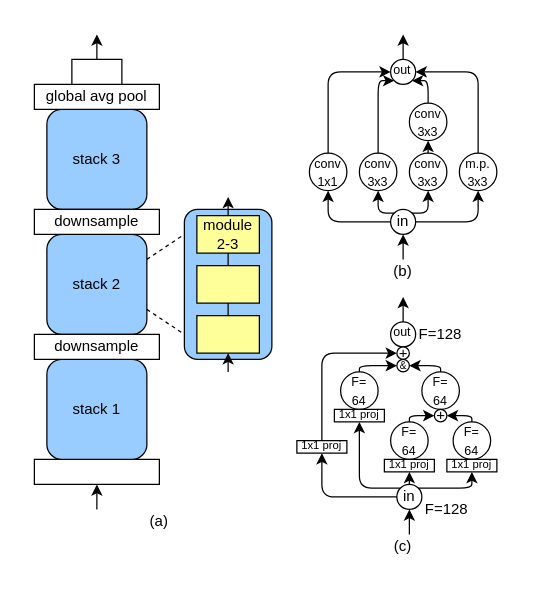
This 543x593 diagram has some shape labels left out. The box of each missing label's shape, as (x1, y1, x2, y2) in pixels:
conv stem: (33, 458, 159, 484)
dense: (71, 58, 122, 84)
module 2-1: (196, 314, 259, 353)
module 2-2: (196, 264, 259, 303)
